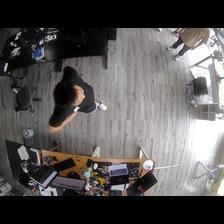normal: (48, 65, 105, 131)
